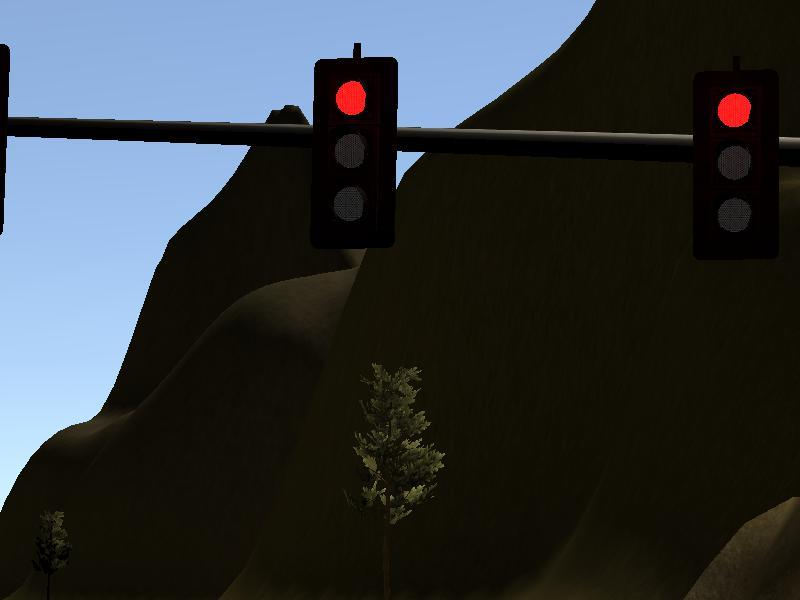Red: (315, 61, 391, 239), (698, 79, 776, 251)
